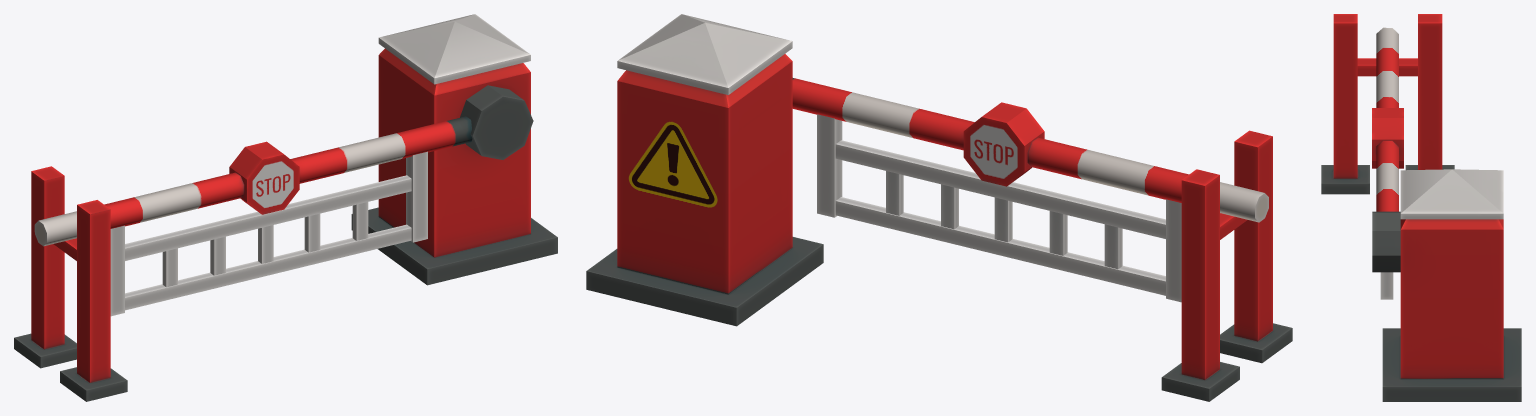
The model's file is barrier.fbx.
3 renders of one model, left to right at view 1: azimuth 30°, elevation 25°; view 2: azimuth 150°, elevation 25°; view 3: azimuth 270°, elevation 25°, orthographic. The views are drawn at different scales.
Parts seen in each view (by area): view 1: barrier foundation, barrier gate; view 2: barrier foundation, barrier gate; view 3: barrier foundation, barrier gate.
Boxes of the visible parts, box(x1,y1,x2,y2) form: barrier foundation: box(14, 14, 557, 401); barrier gate: box(34, 85, 533, 316); barrier foundation: box(586, 14, 1292, 401); barrier gate: box(792, 78, 1268, 302); barrier foundation: box(1321, 14, 1521, 401); barrier gate: box(1372, 27, 1403, 299).
Bounding box in the file's own units: 196 × 80.59 × 71.76.
